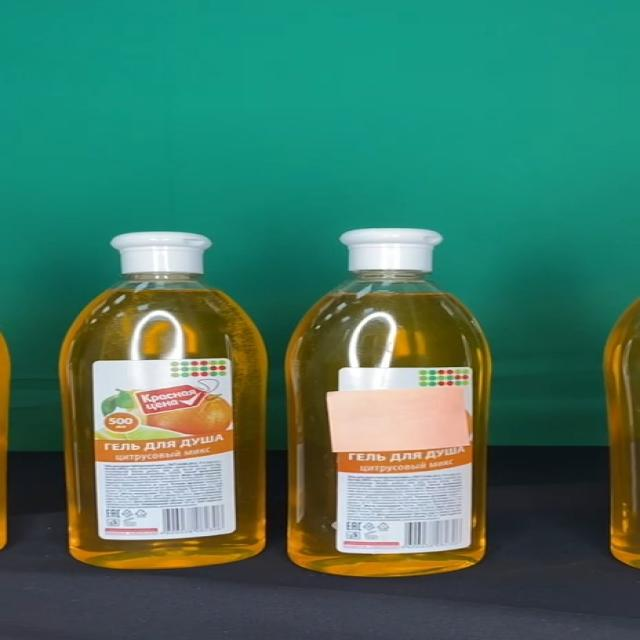Bottle: (286, 228, 493, 577), (62, 232, 268, 569)
Cap: (339, 228, 442, 271), (110, 232, 213, 274)
